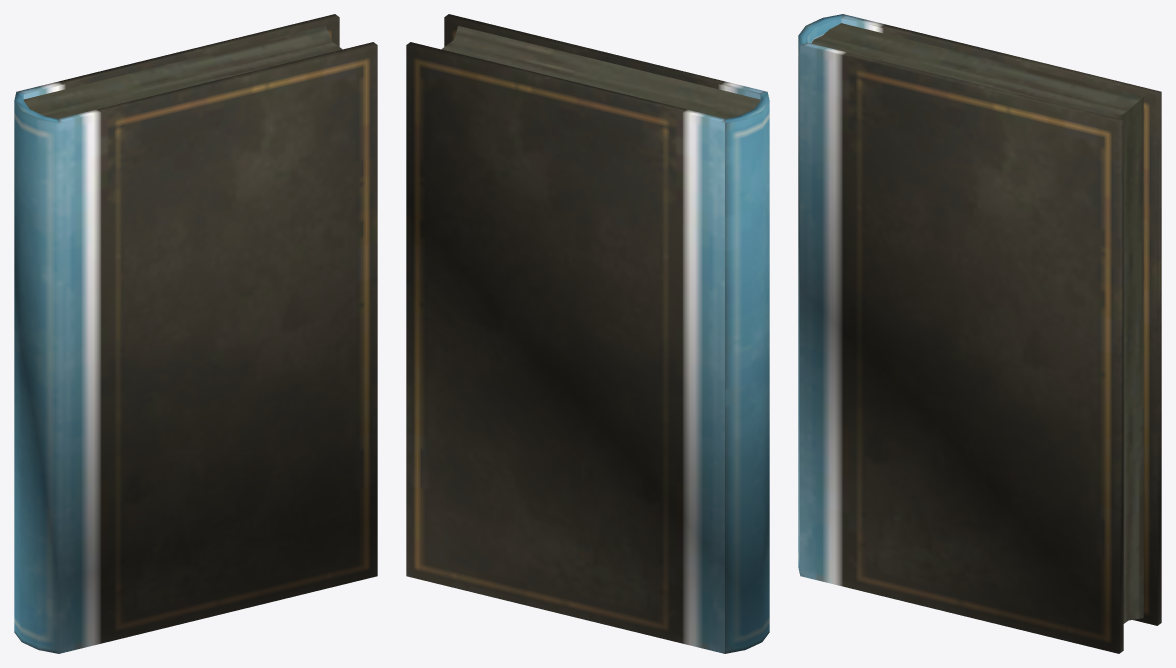
The model's file is Book.obj.
The picture shows the model from 3 angles, left to right: view 1: azimuth 30°, elevation 25°; view 2: azimuth 150°, elevation 25°; view 3: azimuth 330°, elevation 25°; orthographic projection.
Parts seen in each view (by area): view 1: BookGeneric02:78; view 2: BookGeneric02:78; view 3: BookGeneric02:78.
Part boxes in pixels (x1,y1,x2,y2): BookGeneric02:78: (14,14,377,653); BookGeneric02:78: (406,14,769,653); BookGeneric02:78: (798,14,1161,653).
Size of the model in its own units: 13.14 by 19.91 by 2.9.
